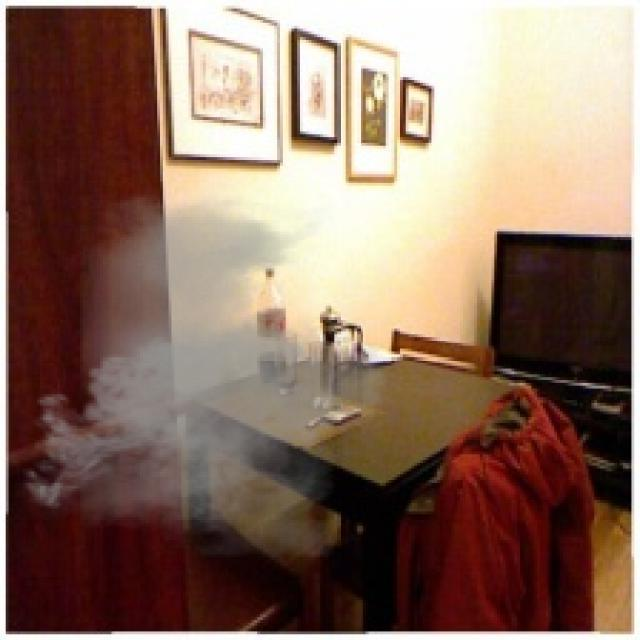Smoke: (11, 194, 403, 557)
